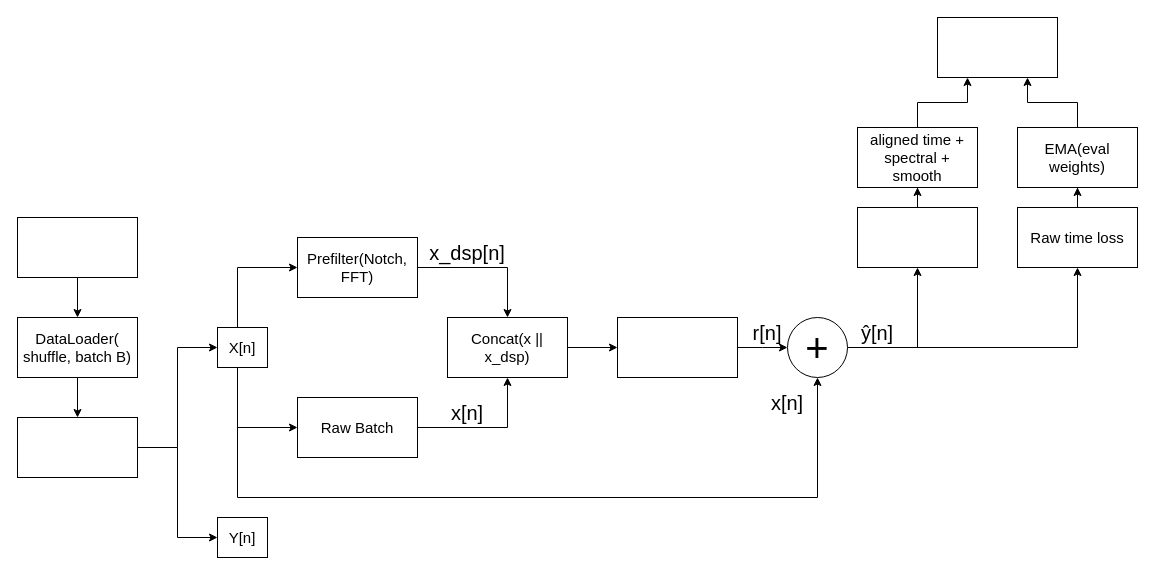
Some shapes in this 1155 by 575 pixel diagram are drawn without their labels. The shapes that lost their labels are listed below. From the top down, each one's box as (x1, y1, x2, y2) in pixels, then its label:
(936, 16, 1058, 78): Optimizer( AdamW, clip)
(16, 216, 138, 278): Dataset(.npz, X, Y)
(856, 206, 978, 268): Align (lag + α)
(616, 316, 738, 378): TCN(Residual)
(16, 416, 138, 478): Windowing(W / H, causal)
